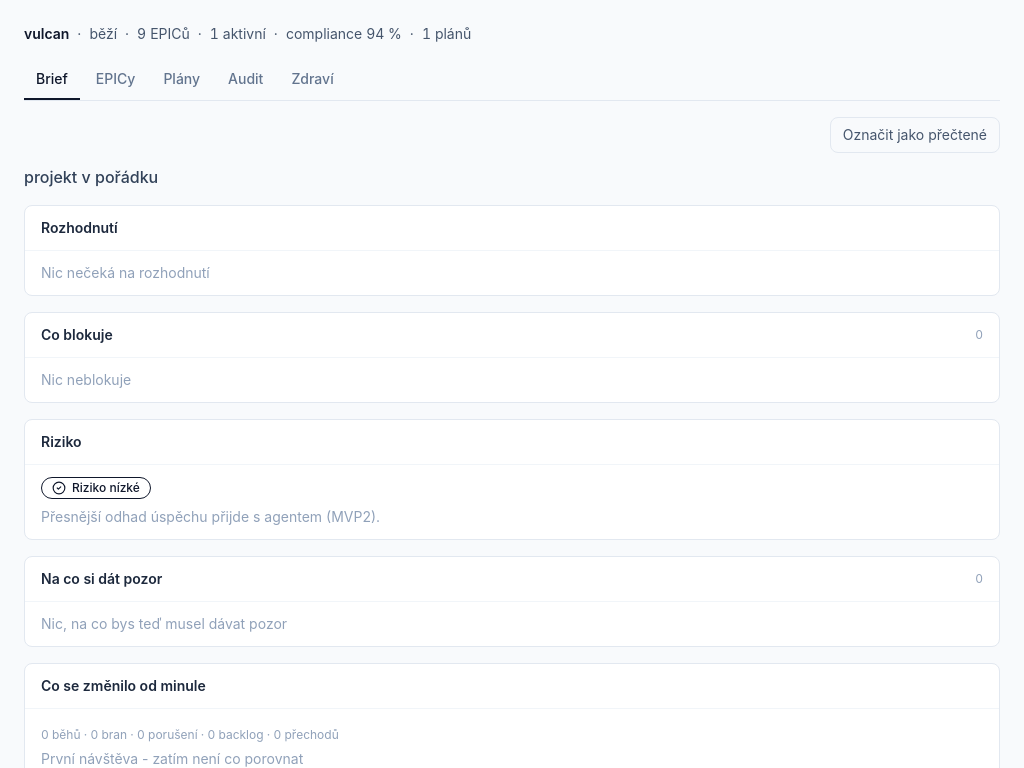
Test case: ScreenB — project detail tab strip › Audit tab renders the aggregate median score + "ze N auditovaných" provenance chip + a connectNulls={false} broken trend
Click the tab "Audit" at (246, 80), box [216,60,275,100]
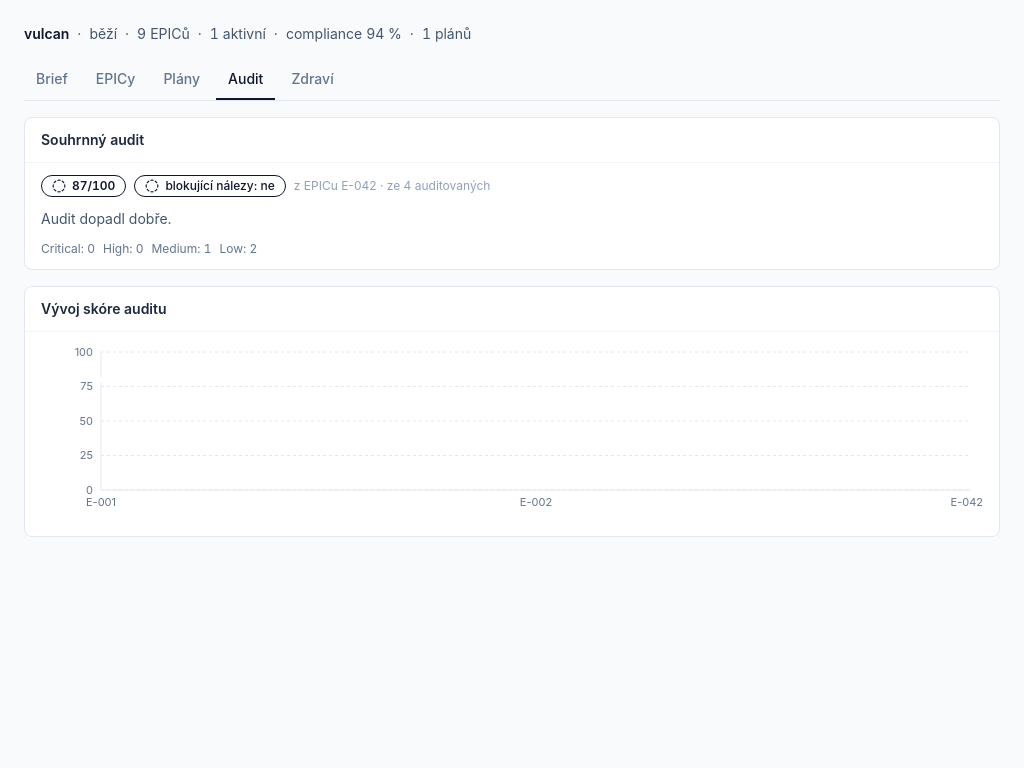
Now the text "z EPICu E-042 · ze 4 auditovaných" is shown, box [294,178,490,194]
Now the text "87/100" is shown, box [41,175,126,197]
Now the element showing "E-001 E-002 E-042 0 25 50 75 100" is shown, box [41,344,983,524]
